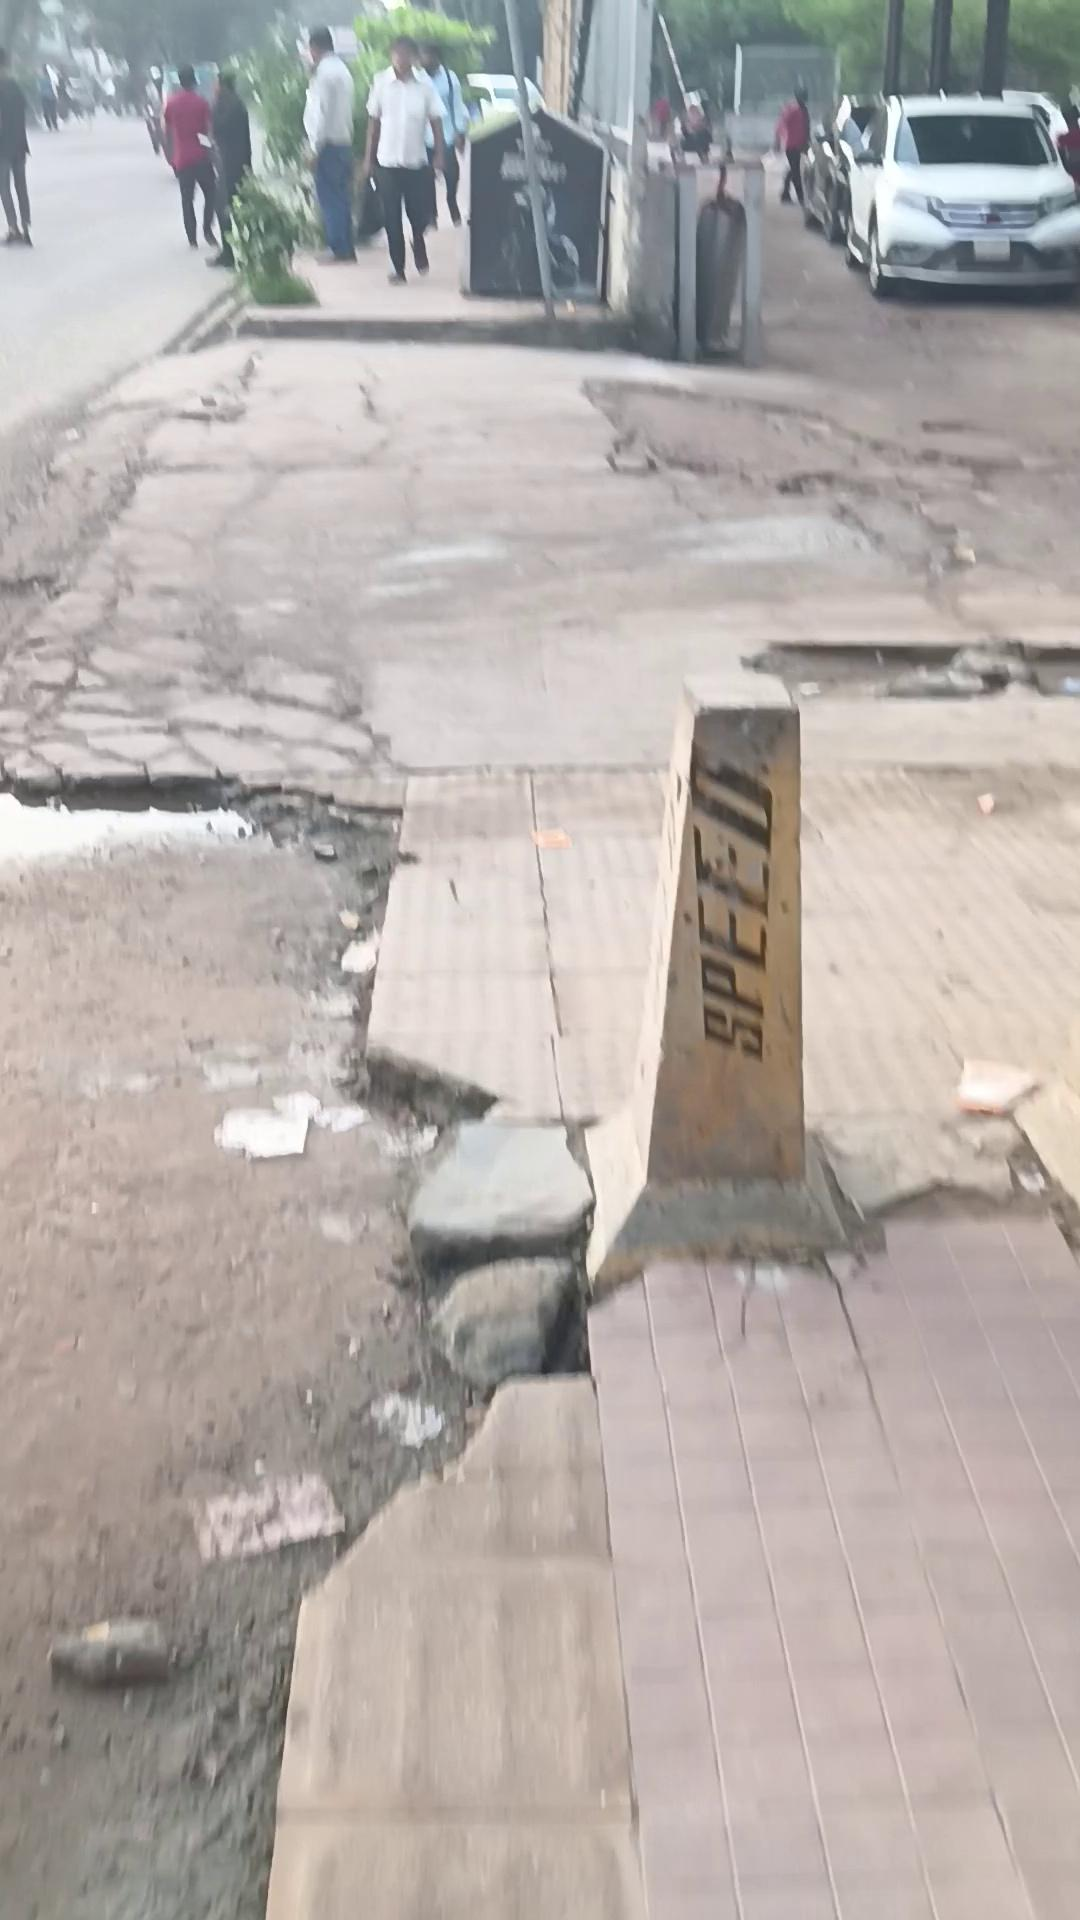Broken-road: (5, 88, 1075, 1913)
Car: (851, 71, 1080, 324)
Crosswalk: (264, 787, 647, 1916), (220, 305, 640, 352)
Muddy road: (361, 34, 448, 284), (301, 22, 357, 262), (161, 65, 219, 248), (415, 41, 469, 229), (203, 66, 253, 268), (0, 47, 33, 247), (771, 88, 810, 204)
Rickshaw: (603, 684, 870, 1270)
